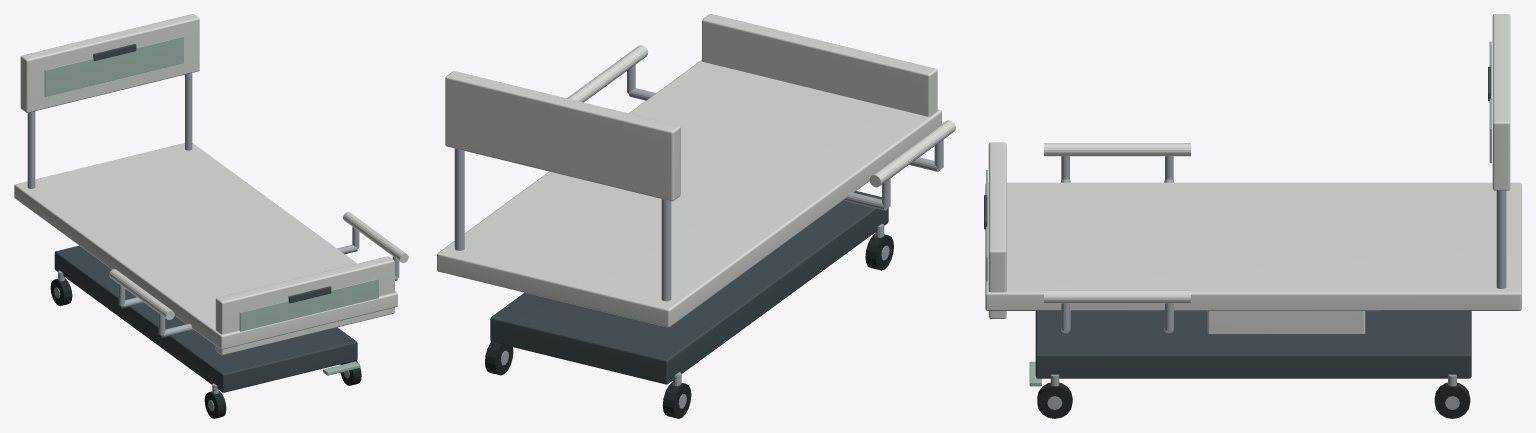
File: hospital_bed.fbx
3 views of the same model, side by side, from view 1: azimuth 30°, elevation 25°; view 2: azimuth 150°, elevation 25°; view 3: azimuth 270°, elevation 25° (orthographic). The views are drawn at different scales.
Visible parts, largest first — view 1: EQ_hospital_bed_M_Ivory, EQ_hospital_bed_M_PlasticGrey, EQ_hospital_bed_M_Sage, EQ_hospital_bed_M_SteelBrushed, EQ_hospital_bed_M_RubberBlack; view 2: EQ_hospital_bed_M_Ivory, EQ_hospital_bed_M_PlasticGrey, EQ_hospital_bed_M_SteelBrushed, EQ_hospital_bed_M_RubberBlack; view 3: EQ_hospital_bed_M_Ivory, EQ_hospital_bed_M_PlasticGrey, EQ_hospital_bed_M_SteelBrushed, EQ_hospital_bed_M_RubberBlack, EQ_hospital_bed_M_Sage.
Boxes of the visible parts, x1,y1,x2,y2 form: EQ_hospital_bed_M_Ivory: (14,14,408,355); EQ_hospital_bed_M_PlasticGrey: (54,44,357,392); EQ_hospital_bed_M_Sage: (44,36,378,375); EQ_hospital_bed_M_SteelBrushed: (27,73,399,411); EQ_hospital_bed_M_RubberBlack: (50,278,361,418); EQ_hospital_bed_M_Ivory: (437,14,955,327); EQ_hospital_bed_M_PlasticGrey: (490,191,888,384); EQ_hospital_bed_M_SteelBrushed: (454,65,943,408); EQ_hospital_bed_M_RubberBlack: (485,234,893,418); EQ_hospital_bed_M_Ivory: (985,14,1521,333); EQ_hospital_bed_M_PlasticGrey: (984,66,1490,378); EQ_hospital_bed_M_SteelBrushed: (1047,156,1506,409); EQ_hospital_bed_M_RubberBlack: (1037,382,1470,418); EQ_hospital_bed_M_Sage: (986,41,1491,386).
Bounding box in the file's own units: 1.33 × 1.24 × 1.98.
